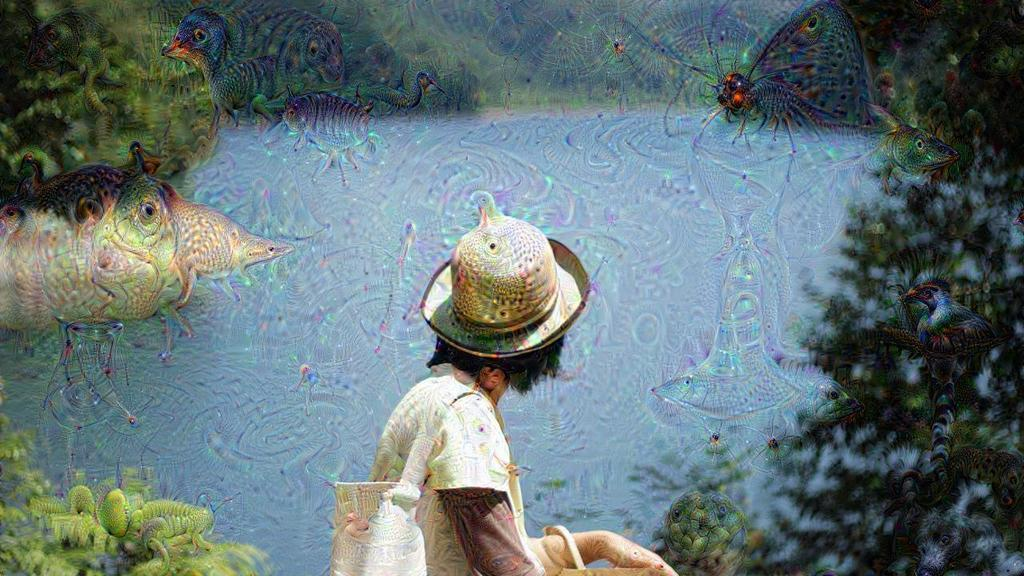Hat: (421, 204, 591, 360)
